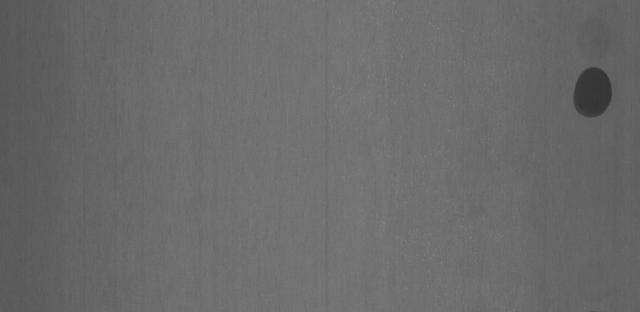oil_spot: (570, 58, 623, 125)
